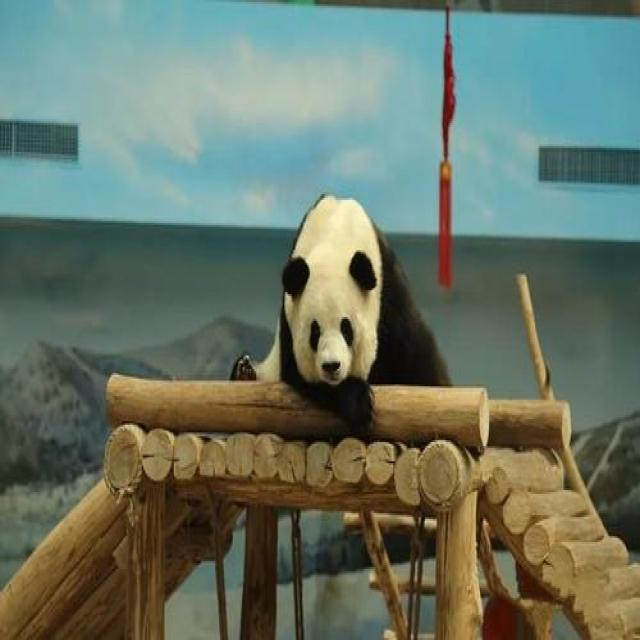panda: (230, 168, 482, 454)
